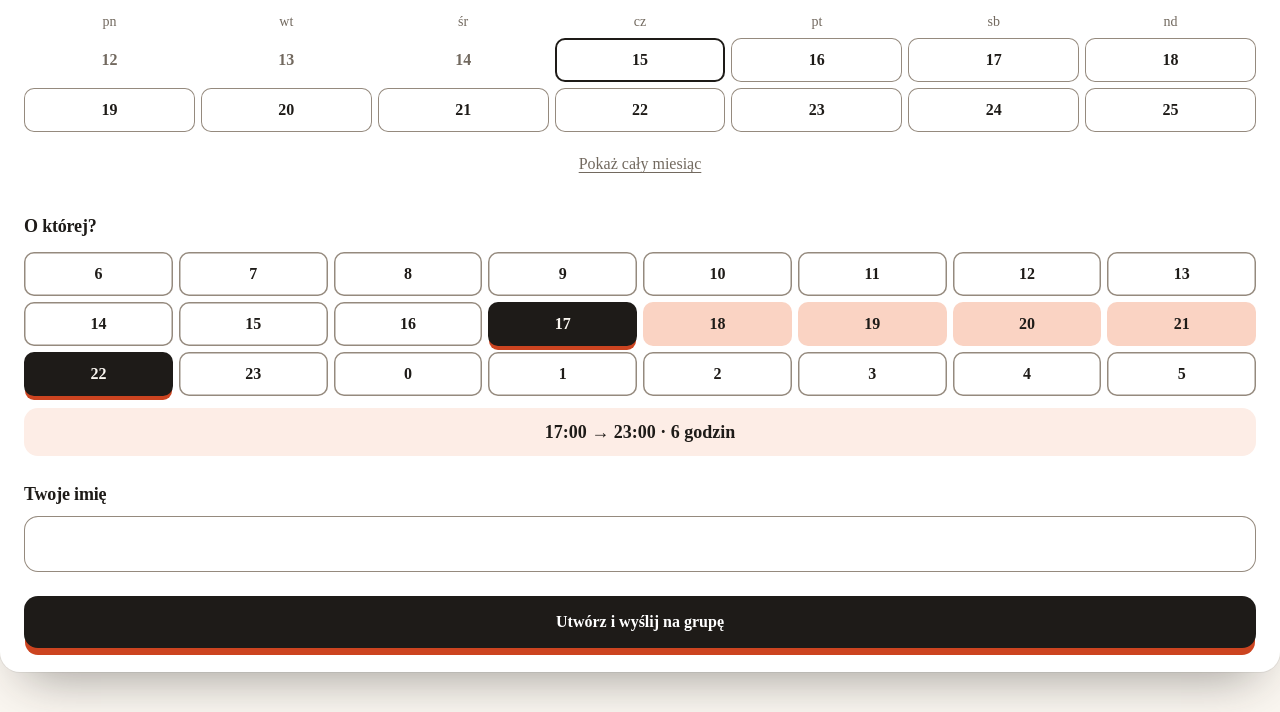
Scenario: Utwórz i wyślij na grupę › says what is missing instead of creating
This screenshot has width=1280, height=712.
(page scrolled)
Click the button "Utwórz i wyślij na grupę": (640, 622) [24,596,1256,648]
(page scrolled)
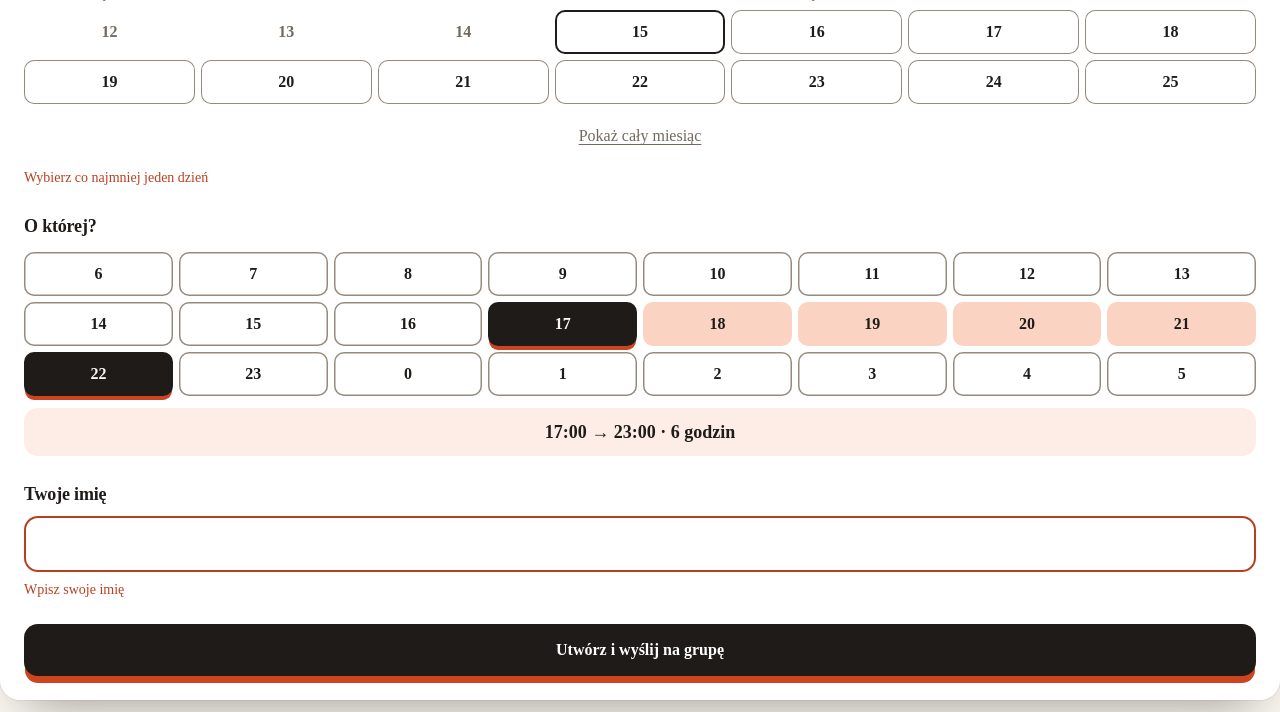
Check: the text "Wybierz co najmniej jeden dzień" is shown, box [24,170,208,185]
Check: the text "Wpisz swoje imię" is shown, box [24,582,124,597]
